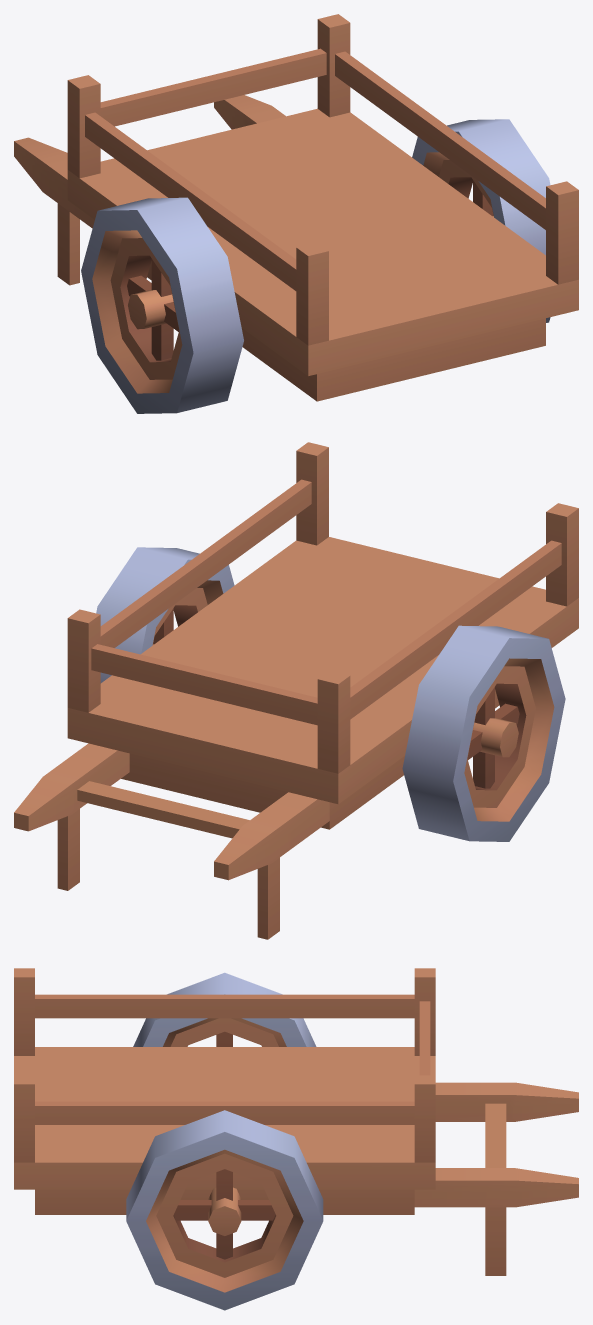
File: k-fantasy-town-cart.glb
The picture shows the model from 3 angles, top to bottom: view 1: azimuth 30°, elevation 25°; view 2: azimuth 150°, elevation 25°; view 3: azimuth 270°, elevation 25°; orthographic projection. The views are drawn at different scales.
Visible parts, largest first — view 1: cart, Group (×2); view 2: cart, Group (×2); view 3: cart, Group (×2).
Part boxes in pixels (x1,y1,x2,y2): cart: (14,14,578,401); Group (×2): (81,119,550,413); cart: (14,442,578,939); Group (×2): (96,547,565,841); cart: (14,968,578,1275); Group (×2): (126,972,323,1310).
Size of the model in its own units: 0.893 by 0.5355 by 1.34.
Materials: 1 (1 with a texture image).
